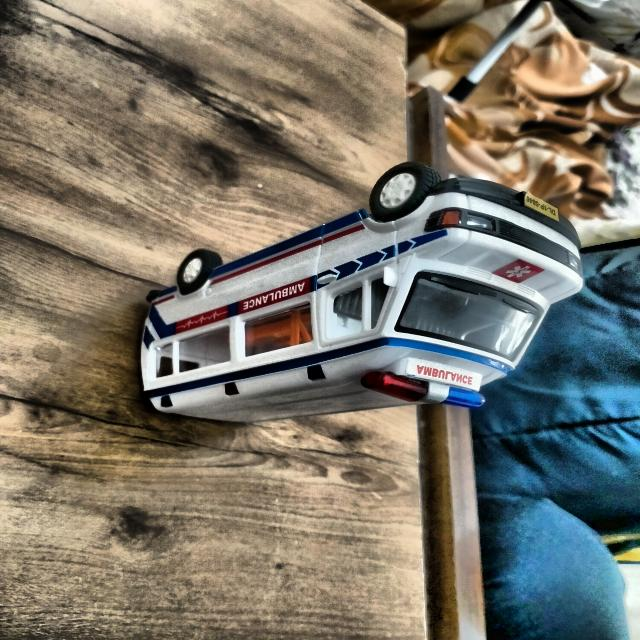Ambulance: (138, 158, 598, 438)
